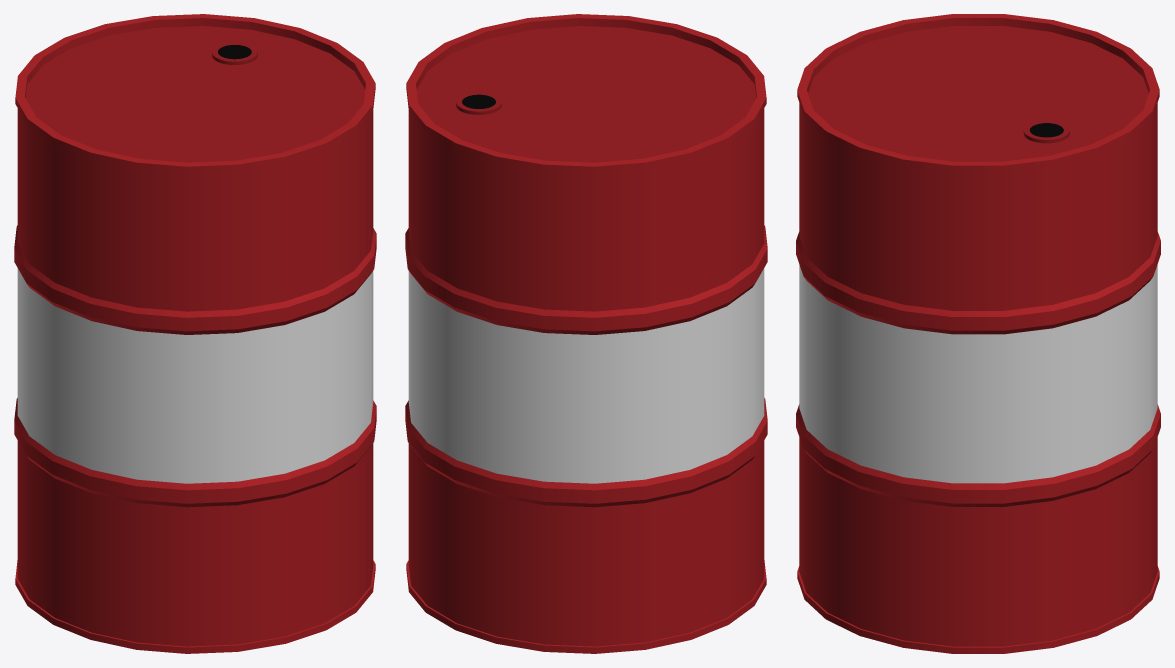
Rendered from Barrel.fbx.
The picture shows the model from 3 angles, left to right: view 1: azimuth 30°, elevation 25°; view 2: azimuth 150°, elevation 25°; view 3: azimuth 270°, elevation 25°; orthographic projection.
Visible parts, largest first — view 1: ExplosiveBarrel; view 2: ExplosiveBarrel; view 3: ExplosiveBarrel.
Part boxes in pixels (box(x1,y1,x2,y2)): ExplosiveBarrel: box(14, 14, 376, 653); ExplosiveBarrel: box(405, 14, 767, 653); ExplosiveBarrel: box(796, 14, 1160, 653).
Bounding box in the file's own units: 59 × 88 × 59.61.
